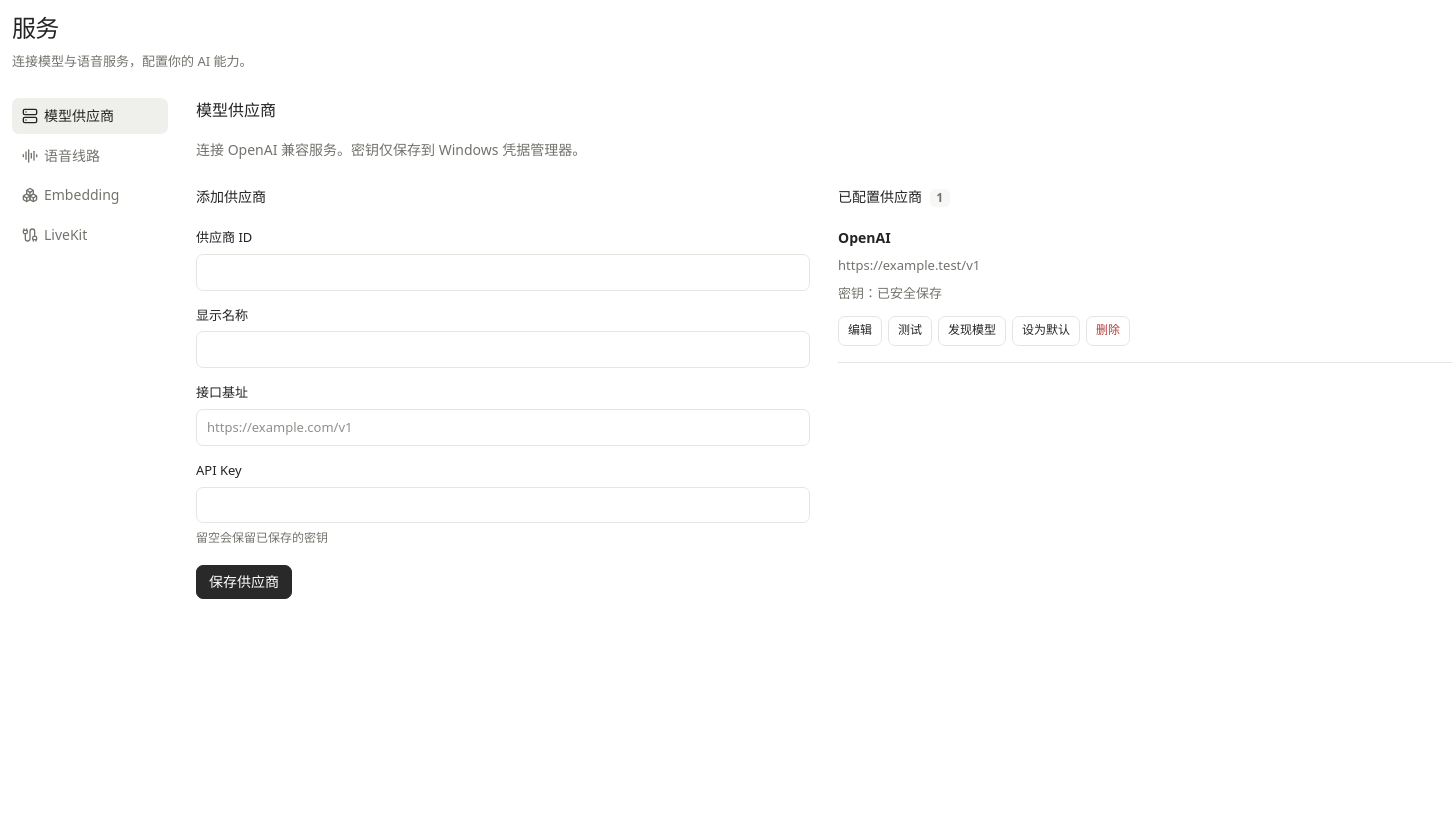
Test: ServicesPage › loads an existing provider into the editor without exposing its key
What coordinates should you click on to do the following:
click the button named "编辑 OpenAI"
I would click on:
 (860, 331)
Its box is top-left (838, 316), bottom-right (882, 346).
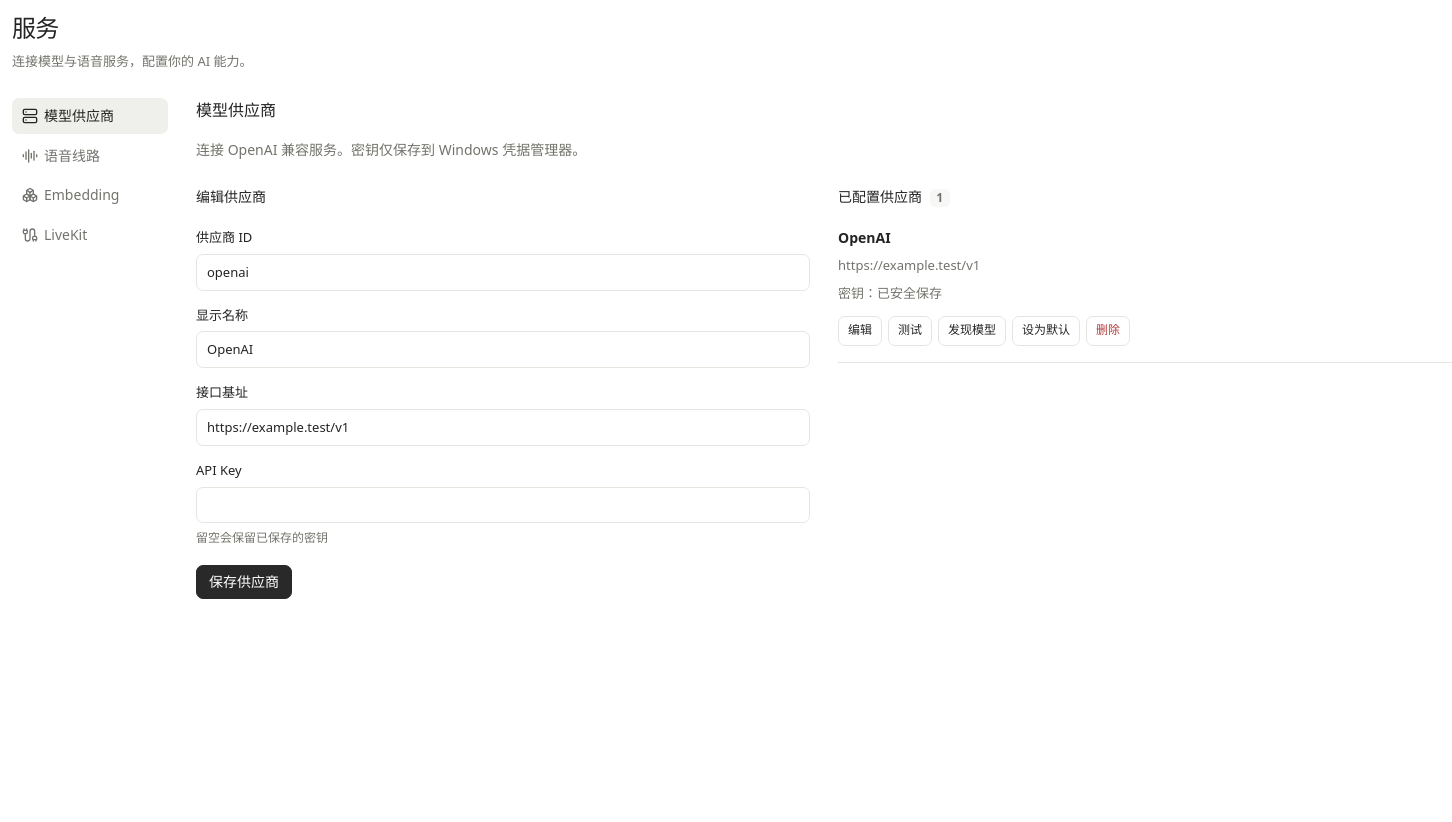
Expected: the password field labelled "API Key 留空会保留已保存的密钥" is empty, top-left (196, 487), bottom-right (810, 523)
Expected: the field labelled "供应商 ID" holds "openai", top-left (196, 254), bottom-right (810, 291)
